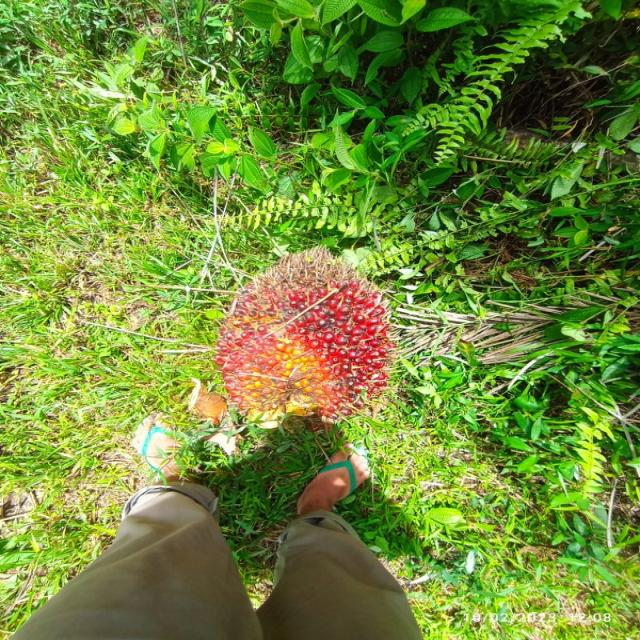fraksi 3: (142, 213, 425, 451)
